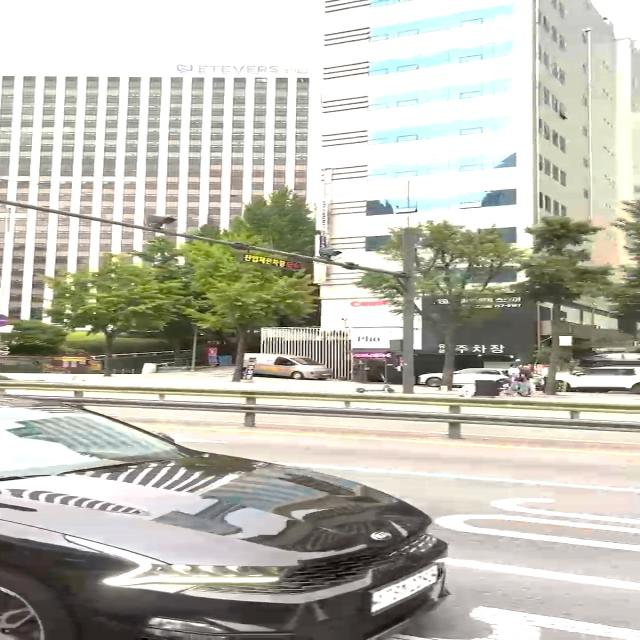building: (0, 74, 310, 346)
car: (0, 393, 451, 639), (242, 352, 332, 380)
